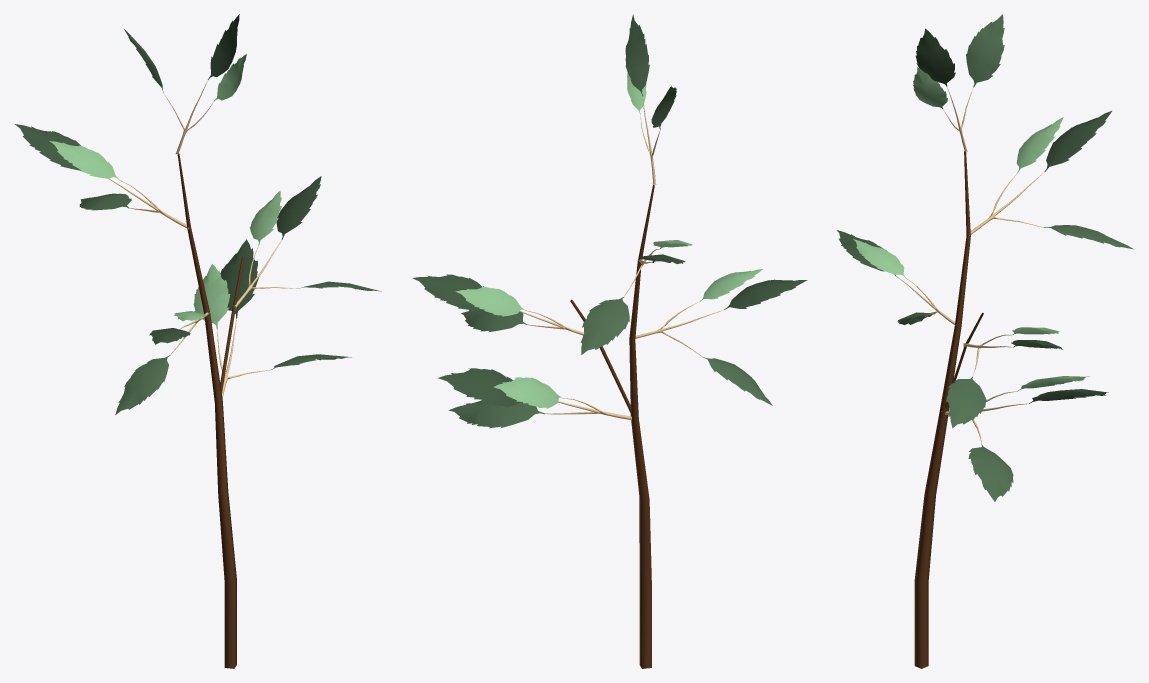
Rendered from Tree7.fbx.
3 renders of one model, left to right at view 1: azimuth 30°, elevation 25°; view 2: azimuth 150°, elevation 25°; view 3: azimuth 270°, elevation 25°, orthographic.
Parts seen in each view (by area): view 1: Árbol.002, Hojas|tree|Dupli|2, Hojas|tree|Dupli|, Hojas|tree|Dupli|4, Hojas|tree|Dupli|1, Hojas|tree|Dupli|3; view 2: Hojas|tree|Dupli|2, Árbol.002, Hojas|tree|Dupli|4, Hojas|tree|Dupli|3, Hojas|tree|Dupli|1, Hojas|tree|Dupli|; view 3: Árbol.002, Hojas|tree|Dupli|1, Hojas|tree|Dupli|, Hojas|tree|Dupli|2, Hojas|tree|Dupli|4, Hojas|tree|Dupli|3.
Boxes of the visible parts, box(x1,y1,x2,y2) form: Árbol.002: box(177, 153, 244, 668); Hojas|tree|Dupli|2: box(193, 239, 351, 398); Hojas|tree|Dupli|: box(14, 124, 188, 229); Hojas|tree|Dupli|4: box(234, 176, 381, 307); Hojas|tree|Dupli|1: box(123, 14, 246, 154); Hojas|tree|Dupli|3: box(115, 311, 208, 414); Hojas|tree|Dupli|2: box(438, 368, 631, 428); Árbol.002: box(570, 185, 654, 668); Hojas|tree|Dupli|4: box(412, 274, 583, 335); Hojas|tree|Dupli|3: box(635, 269, 807, 405); Hojas|tree|Dupli|1: box(625, 14, 676, 184); Hojas|tree|Dupli|: box(580, 240, 692, 354); Árbol.002: box(914, 151, 983, 668); Hojas|tree|Dupli|1: box(913, 14, 1004, 151); Hojas|tree|Dupli|: box(970, 111, 1133, 249); Hojas|tree|Dupli|2: box(945, 376, 1108, 501); Hojas|tree|Dupli|4: box(946, 327, 1062, 428); Hojas|tree|Dupli|3: box(837, 230, 955, 324).
Bounding box in the file's own units: 118 × 252 × 106.
